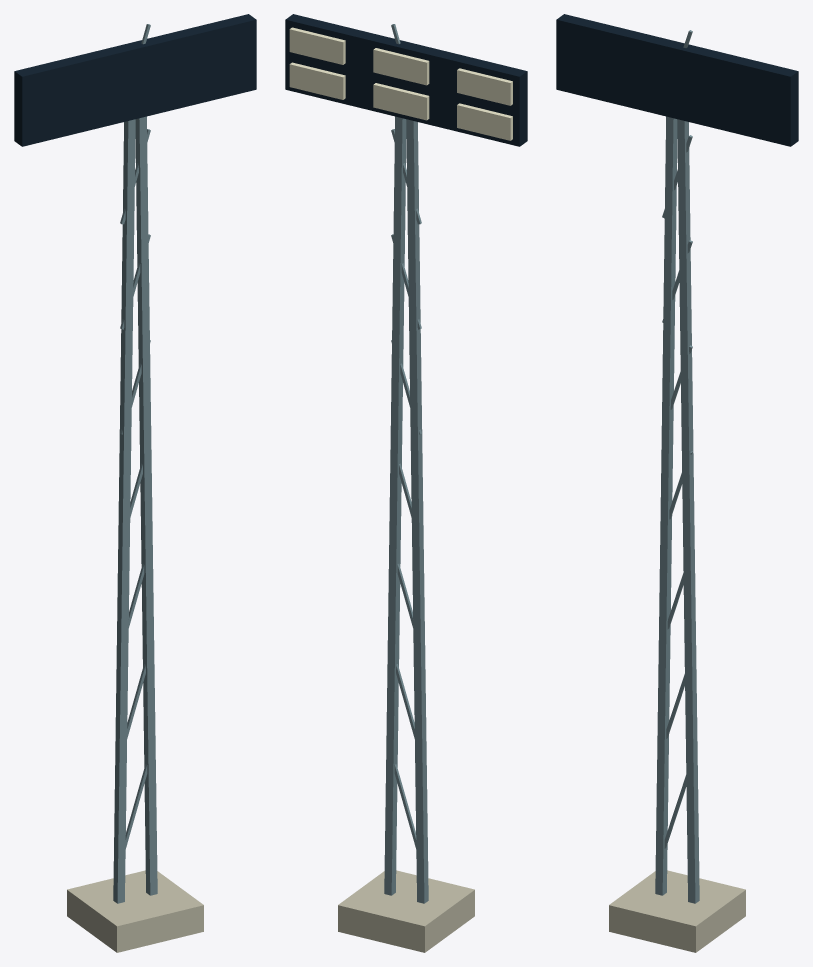
Rendered from floodlight_mast.glb.
The picture shows the model from 3 angles, left to right: view 1: azimuth 30°, elevation 25°; view 2: azimuth 150°, elevation 25°; view 3: azimuth 330°, elevation 25°; orthographic projection.
Visible parts, largest first — view 1: FloodlightFrame, MastLegs, MastFoundation, MastTruss; view 2: MastLegs, FloodlightFrame, FloodlightLenses, MastFoundation, MastTruss; view 3: FloodlightFrame, MastLegs, MastFoundation, MastTruss.
Part boxes in pixels (left/top/right/bottom): FloodlightFrame: left=14, top=14, right=256, bottom=146; MastLegs: left=113, top=116, right=157, bottom=903; MastFoundation: left=67, top=870, right=203, bottom=952; MastTruss: left=120, top=24, right=150, bottom=848; MastLegs: left=384, top=116, right=428, bottom=903; FloodlightFrame: left=285, top=14, right=527, bottom=146; FloodlightLenses: left=289, top=27, right=512, bottom=140; MastFoundation: left=338, top=870, right=474, bottom=952; MastTruss: left=391, top=24, right=421, bottom=848; FloodlightFrame: left=556, top=14, right=798, bottom=146; MastLegs: left=655, top=116, right=699, bottom=903; MastFoundation: left=609, top=870, right=745, bottom=952; MastTruss: left=662, top=30, right=692, bottom=848.
Size of the model in its own units: 7 by 25.59 by 2.6.
